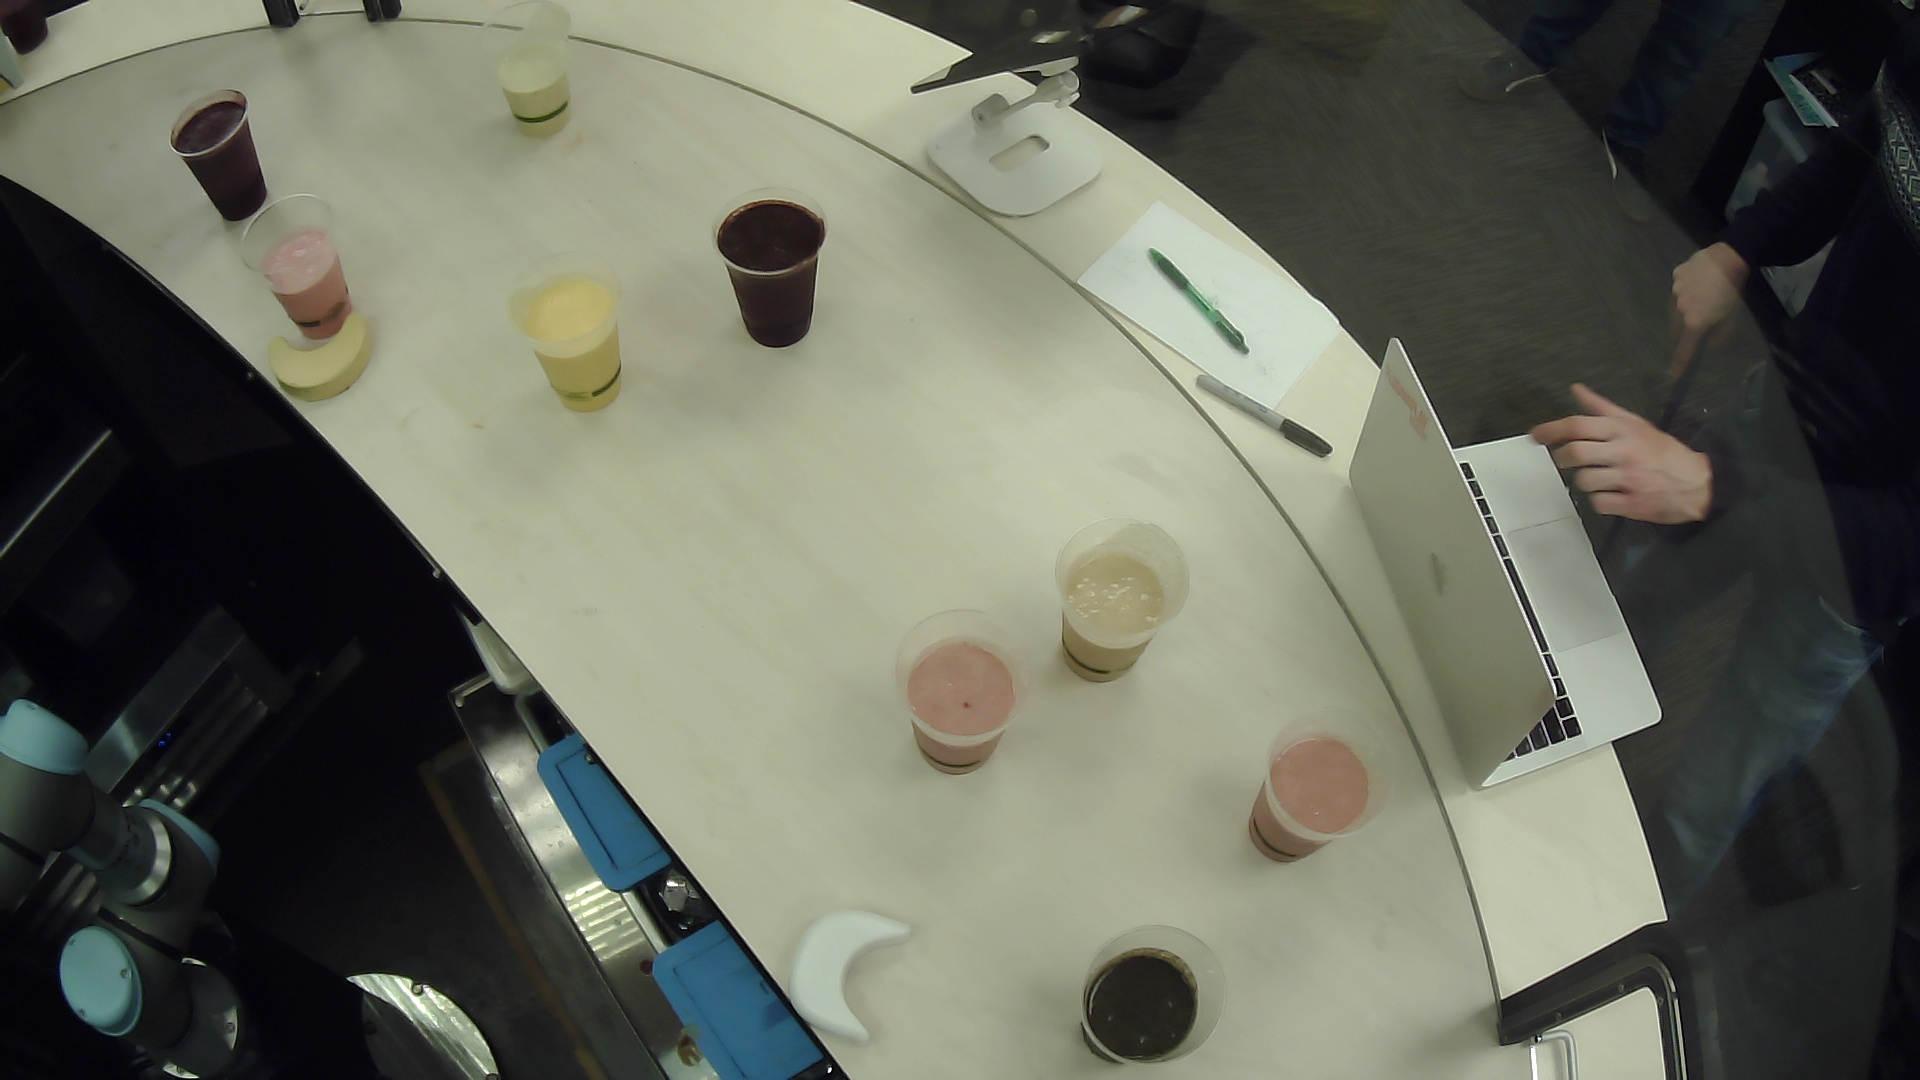Deliver: (775, 889, 956, 1060), (251, 305, 390, 425)
Full_cup: (1025, 913, 1255, 1065), (1213, 711, 1408, 884), (1044, 498, 1207, 702), (489, 241, 647, 434), (881, 599, 1033, 785), (696, 178, 839, 371), (220, 185, 361, 355), (158, 80, 289, 223), (471, 1, 603, 141)
